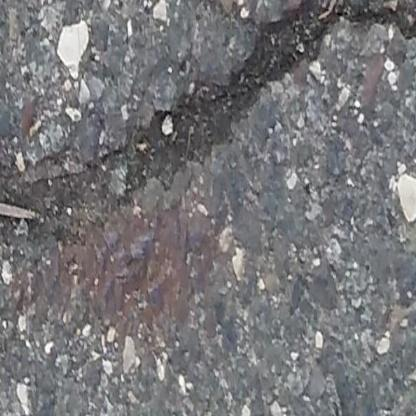Cracks: (0, 0, 416, 248)
